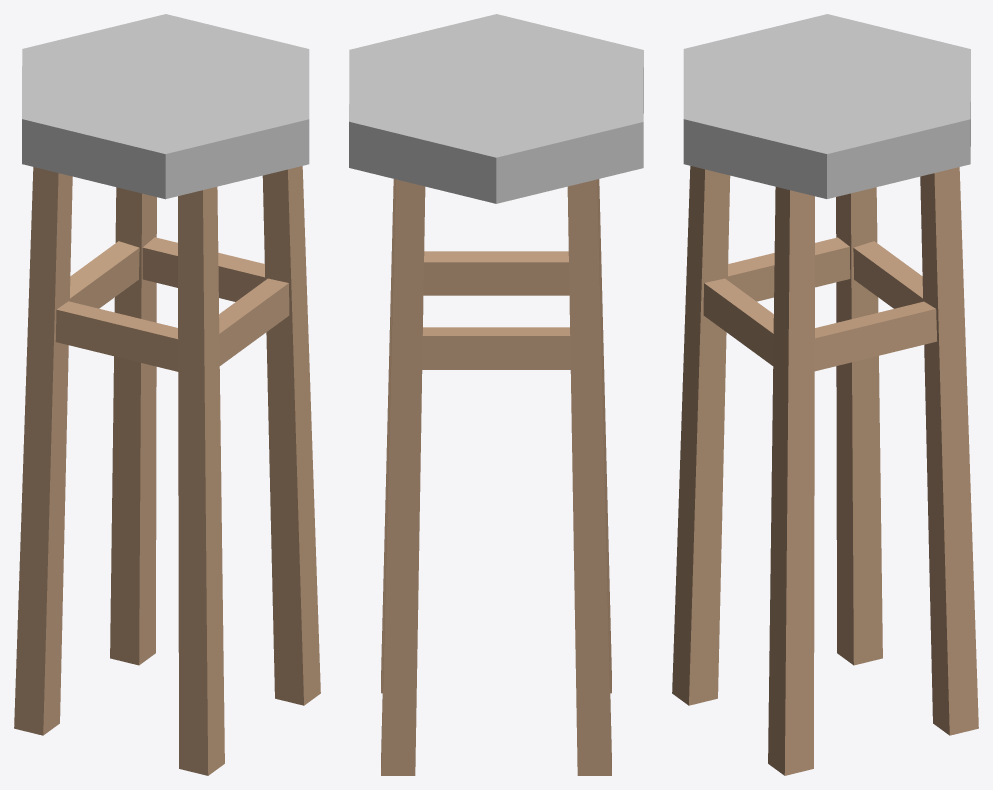
Rendered from Bar_chair_02.fbx.
3 renders of one model, left to right at view 1: azimuth 30°, elevation 25°; view 2: azimuth 150°, elevation 25°; view 3: azimuth 270°, elevation 25°, orthographic. The views are drawn at different scales.
Visible parts, largest first — view 1: Bar_chair_02; view 2: Bar_chair_02; view 3: Bar_chair_02.
Boxes of the visible parts, box(x1,y1,x2,y2) form: Bar_chair_02: box(14, 14, 320, 775); Bar_chair_02: box(349, 14, 643, 775); Bar_chair_02: box(672, 14, 978, 775).
Size of the model in its own units: 46.32 by 96.54 by 42.84.
